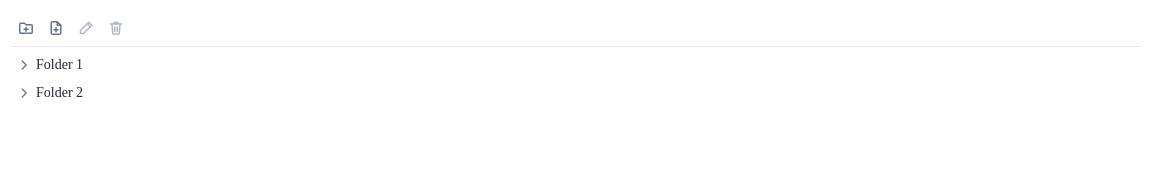
Test: Direactree › keeps the typed name when async save fails
This screenshot has width=1152, height=180.
Click the button named "Create Folder" at {"x": 26, "y": 28}, box [12, 14, 40, 42]
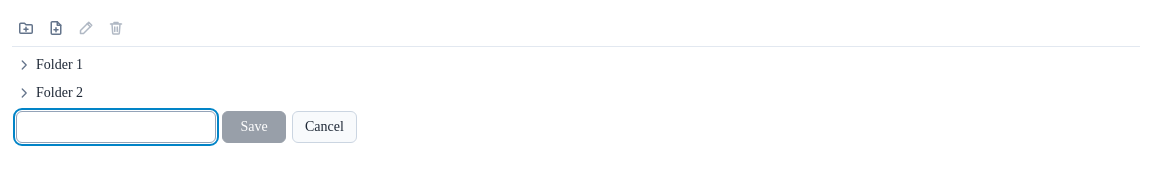
Type "Draft" into the field named "New folder name" at {"x": 116, "y": 127}, box [16, 111, 216, 143]
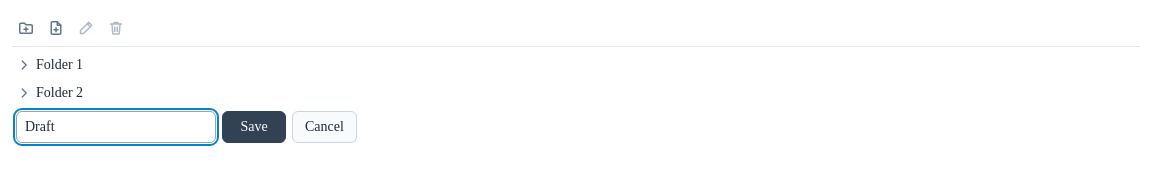
Click the button "Save" at {"x": 254, "y": 127}, box [222, 111, 286, 143]
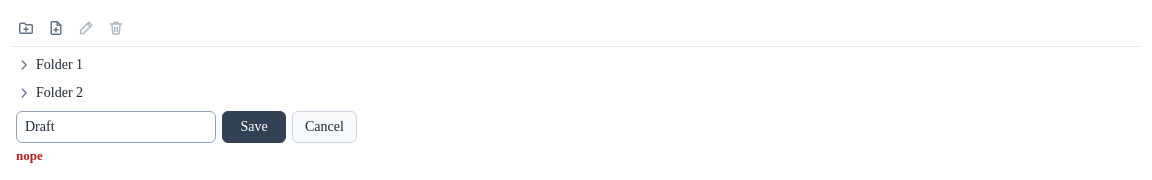
Result: the field named "New folder name" is enabled at [16, 111, 216, 143]
Result: the message reads "nope" at [16, 148, 43, 163]
